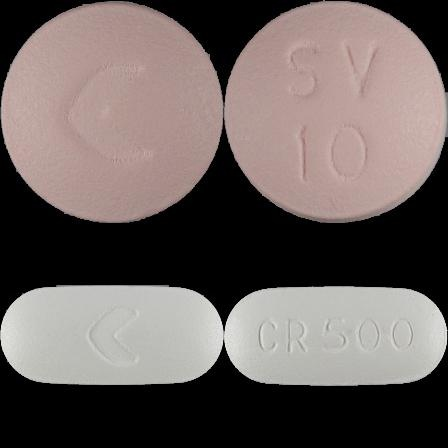16252-506: (0, 0, 224, 224)
